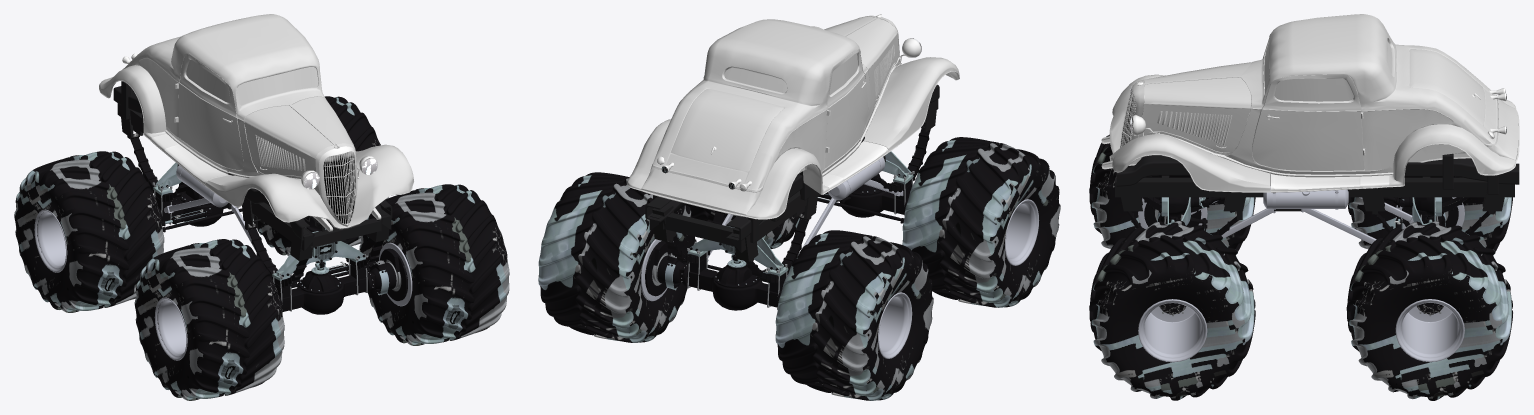
File: Monster_Truck.fbx
The picture shows the model from 3 angles, left to right: view 1: azimuth 30°, elevation 25°; view 2: azimuth 150°, elevation 25°; view 3: azimuth 270°, elevation 25°; orthographic projection. The views are drawn at different scales.
Parts seen in each view (by area): view 1: HOTROD_33B_body_HOTROD_33B_Body_0_166, SM_GoodYear_Terra_66_High.007_GoodYear_Terra.001_0_162, SM_GoodYear_Terra_66_High.009_GoodYear_Terra.001_0_196, SM_GoodYear_Terra_66_High.010_GoodYear_Terra.001_0_202, HOTROD_33B_Hood_HOTROD_33B_Body_0_178, Plane_Material.004_0_98, HOTROD_33B_body.002_Graffiti_0_210, HOTROD_33B_Bottom.002_C10_Trims_0_190, SM_GoodYear_Terra_66_High.011_GoodYear_Terra.001_0_206, Rockwell_5Ton_BearFoot_Axles_0_88, LeafSpring_BearFoot_Axles_0_102, HOTROD_33B_Bottom.003_UCB_BOTTOM_DIF_0_192 (+13 smaller); view 2: HOTROD_33B_body_HOTROD_33B_Body_0_166, SM_GoodYear_Terra_66_High.009_GoodYear_Terra.001_0_196, SM_GoodYear_Terra_66_High.007_GoodYear_Terra.001_0_162, SM_GoodYear_Terra_66_High.011_GoodYear_Terra.001_0_206, HOTROD_33B_Trunkdoor_HOTROD_33B_Body_0_180, Plane_Material.004_0_98, HOTROD_33B_Hood_HOTROD_33B_Body_0_178, HOTROD_33B_body.002_Graffiti_0_210, Rockwell_5Ton.001_BearFoot_Axles_0_86, LeafSpring.004_BearFoot_Axles_0_100, Rim_66.009_C10_Trims_0_164, Rim_66.010_C10_Trims_0_198 (+14 smaller); view 3: HOTROD_33B_body_HOTROD_33B_Body_0_166, SM_GoodYear_Terra_66_High.010_GoodYear_Terra.001_0_202, SM_GoodYear_Terra_66_High.011_GoodYear_Terra.001_0_206, Plane_Material.004_0_98, HOTROD_33B_Hood_HOTROD_33B_Body_0_178, HOTROD_33B_body.002_Graffiti_0_210, SM_GoodYear_Terra_66_High.007_GoodYear_Terra.001_0_162, Rim_66.012_C10_Trims_0_208, Rim_66.011_C10_Trims_0_204, HOTROD_33B_Trunkdoor_HOTROD_33B_Body_0_180, SM_GoodYear_Terra_66_High.009_GoodYear_Terra.001_0_196, HOTROD_33B_Bottom.001_C10_Trims_0_188 (+11 smaller).
Part boxes in pixels (x1=…): HOTROD_33B_body_HOTROD_33B_Body_0_166: x1=99, y1=14, x2=414, y2=229; SM_GoodYear_Terra_66_High.007_GoodYear_Terra.001_0_162: x1=134, y1=239, x2=284, y2=400; SM_GoodYear_Terra_66_High.009_GoodYear_Terra.001_0_196: x1=14, y1=151, x2=164, y2=312; SM_GoodYear_Terra_66_High.010_GoodYear_Terra.001_0_202: x1=359, y1=184, x2=509, y2=345; HOTROD_33B_Hood_HOTROD_33B_Body_0_178: x1=244, y1=97, x2=354, y2=194; Plane_Material.004_0_98: x1=113, y1=81, x2=392, y2=260; HOTROD_33B_body.002_Graffiti_0_210: x1=178, y1=83, x2=242, y2=170; HOTROD_33B_Bottom.002_C10_Trims_0_190: x1=122, y1=53, x2=375, y2=226; SM_GoodYear_Terra_66_High.011_GoodYear_Terra.001_0_206: x1=253, y1=96, x2=388, y2=255; Rockwell_5Ton_BearFoot_Axles_0_88: x1=278, y1=268, x2=381, y2=314; LeafSpring_BearFoot_Axles_0_102: x1=248, y1=223, x2=383, y2=311; HOTROD_33B_Bottom.003_UCB_BOTTOM_DIF_0_192: x1=323, y1=151, x2=355, y2=223; HOTROD_33B_body_HOTROD_33B_Body_0_166: x1=627, y1=15, x2=959, y2=219; SM_GoodYear_Terra_66_High.009_GoodYear_Terra.001_0_196: x1=775, y1=230, x2=933, y2=400; SM_GoodYear_Terra_66_High.007_GoodYear_Terra.001_0_162: x1=902, y1=137, x2=1060, y2=307; SM_GoodYear_Terra_66_High.011_GoodYear_Terra.001_0_206: x1=538, y1=172, x2=696, y2=342; HOTROD_33B_Trunkdoor_HOTROD_33B_Body_0_180: x1=670, y1=89, x2=783, y2=171; Plane_Material.004_0_98: x1=645, y1=84, x2=939, y2=262; HOTROD_33B_Hood_HOTROD_33B_Body_0_178: x1=824, y1=16, x2=899, y2=108; HOTROD_33B_body.002_Graffiti_0_210: x1=825, y1=79, x2=868, y2=167; Rockwell_5Ton.001_BearFoot_Axles_0_86: x1=673, y1=261, x2=782, y2=310; LeafSpring.004_BearFoot_Axles_0_100: x1=665, y1=211, x2=808, y2=309; Rim_66.009_C10_Trims_0_164: x1=1004, y1=199, x2=1039, y2=265; Rim_66.010_C10_Trims_0_198: x1=878, y1=292, x2=912, y2=358; HOTROD_33B_body_HOTROD_33B_Body_0_166: x1=1109, y1=14, x2=1519, y2=192; SM_GoodYear_Terra_66_High.010_GoodYear_Terra.001_0_202: x1=1089, y1=221, x2=1255, y2=400; SM_GoodYear_Terra_66_High.011_GoodYear_Terra.001_0_206: x1=1346, y1=221, x2=1512, y2=400; Plane_Material.004_0_98: x1=1115, y1=153, x2=1519, y2=219; HOTROD_33B_Hood_HOTROD_33B_Body_0_178: x1=1138, y1=62, x2=1251, y2=154; HOTROD_33B_body.002_Graffiti_0_210: x1=1252, y1=110, x2=1363, y2=170; SM_GoodYear_Terra_66_High.007_GoodYear_Terra.001_0_162: x1=1089, y1=134, x2=1255, y2=251; Rim_66.012_C10_Trims_0_208: x1=1138, y1=299, x2=1207, y2=362; Rim_66.011_C10_Trims_0_204: x1=1395, y1=299, x2=1464, y2=362; HOTROD_33B_Trunkdoor_HOTROD_33B_Body_0_180: x1=1409, y1=49, x2=1485, y2=125; SM_GoodYear_Terra_66_High.009_GoodYear_Terra.001_0_196: x1=1348, y1=176, x2=1512, y2=251; HOTROD_33B_Bottom.001_C10_Trims_0_188: x1=1271, y1=174, x2=1389, y2=192.
Bounding box in the file's own units: 415 × 346 × 462.
Materials: 13 (3 with a texture image).
